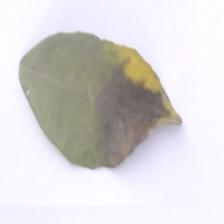canker: (11, 35, 144, 168)
